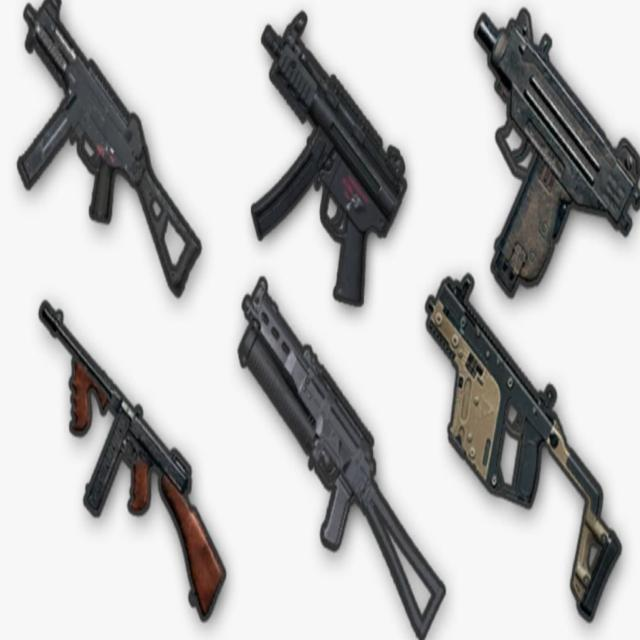Weapon: (238, 278, 445, 640), (426, 274, 621, 620), (39, 301, 225, 619), (17, 0, 200, 296), (474, 9, 640, 295), (251, 11, 406, 305)
